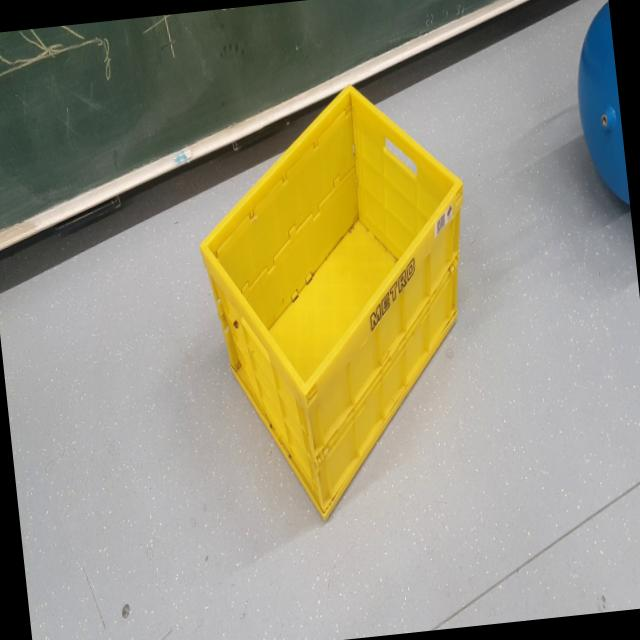box: (180, 74, 510, 548)
